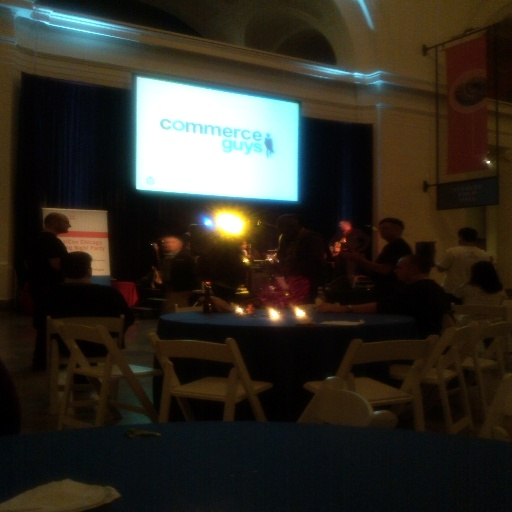hand: (340, 250, 364, 263), (317, 300, 342, 312)
